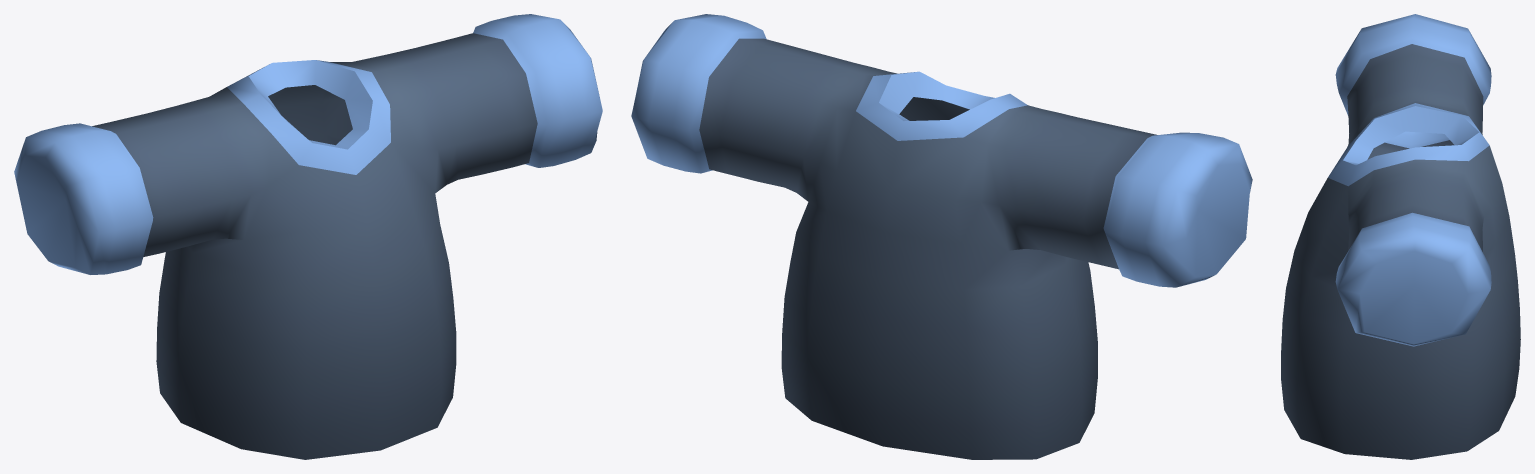
Rendered from Top_15.fbx.
3 views of the same model, side by side, from view 1: azimuth 30°, elevation 25°; view 2: azimuth 150°, elevation 25°; view 3: azimuth 270°, elevation 25° (orthographic). The views are drawn at different scales.
Visible parts, largest first — view 1: Top_15; view 2: Top_15; view 3: Top_15.
Part boxes in pixels (x1,y1,x2,y2): Top_15: (14,14,602,459); Top_15: (631,14,1252,459); Top_15: (1281,14,1520,459).
Bounding box in the file's own units: 83.07 × 48.32 × 36.49.
